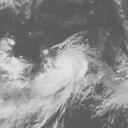cyclone: (32, 31, 92, 103)
